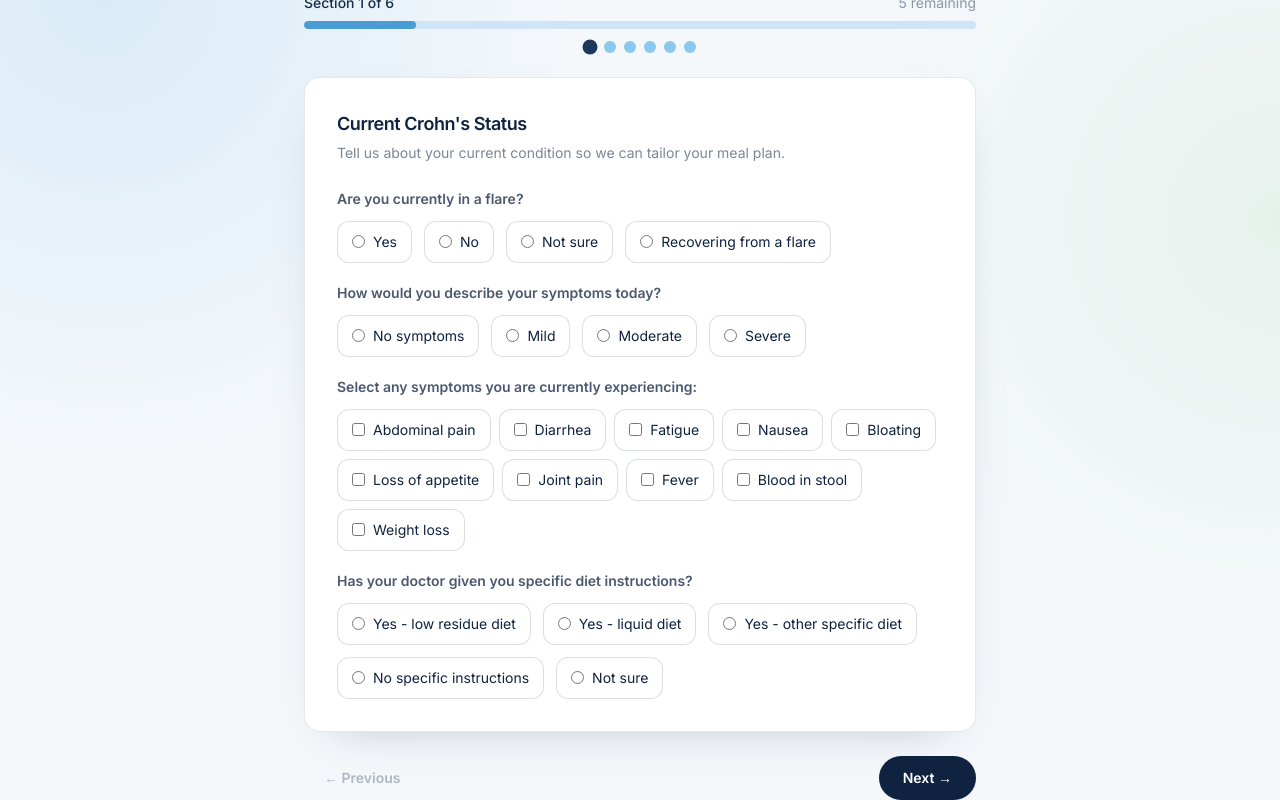
Scenario: QuizFlow › advances past the first section with nothing answered, because none of its questions are required
What coordinates should you click on to do the following:
click the button "Next →"
I would click on:
 (927, 778)
Its box is [879,756,976,799].
(page scrolled)
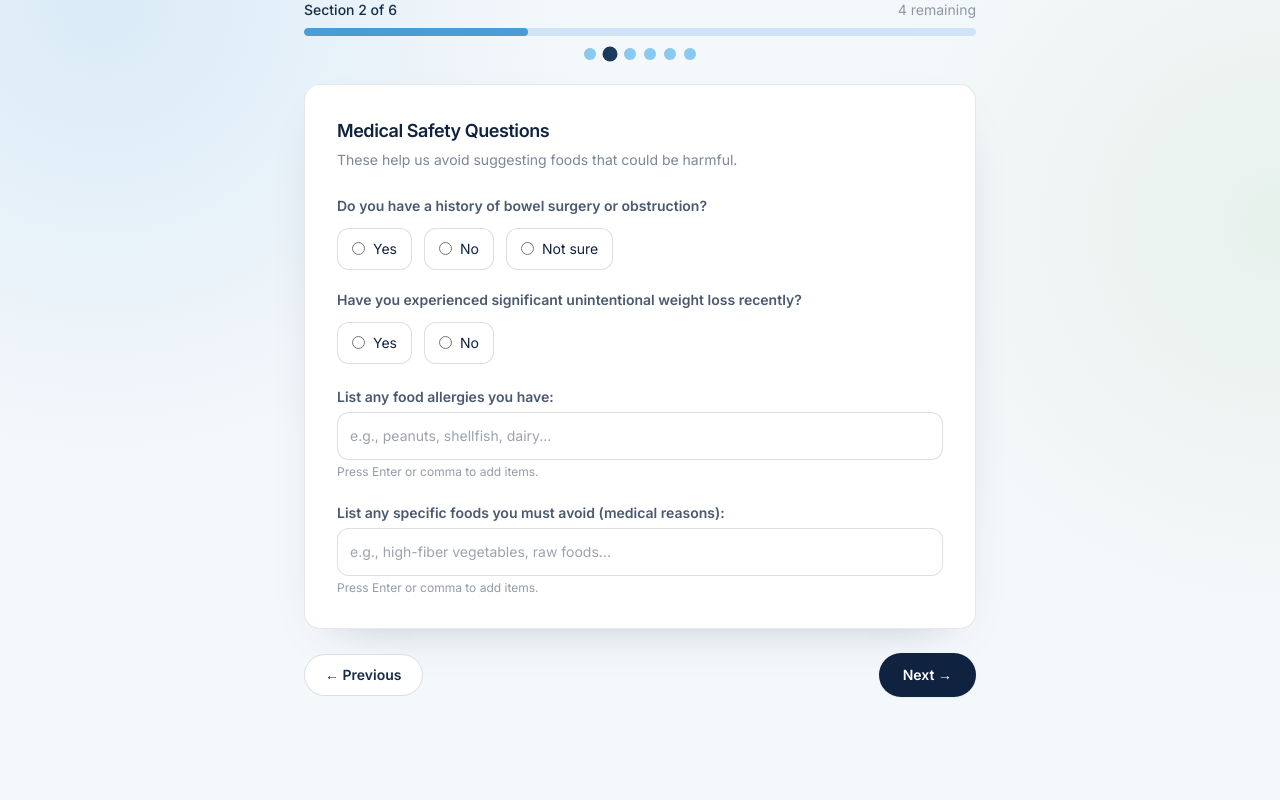
Now the text "Section 2 of 6" is shown, box [304,0,397,20]
Now the heading "Medical Safety Questions" is shown, box [337,120,549,141]
